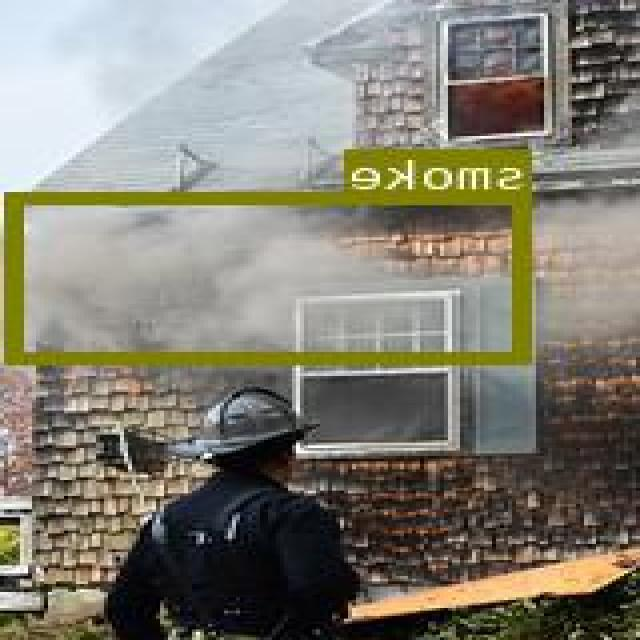smoke: (9, 190, 534, 362)
